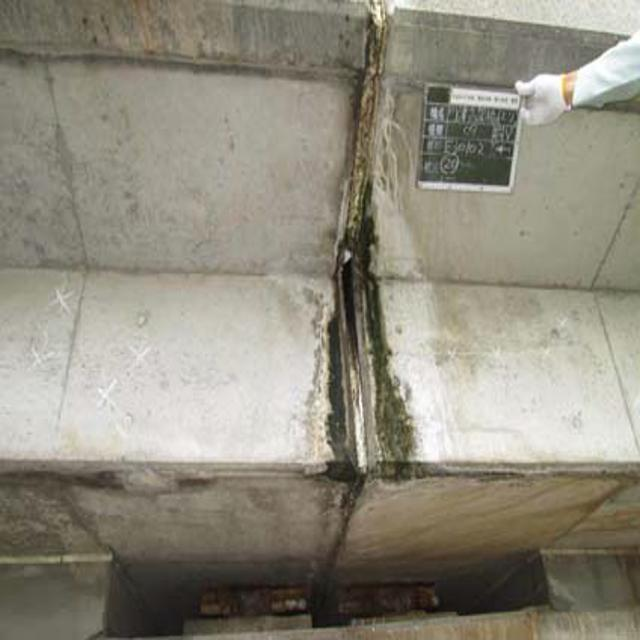freelime: (338, 7, 393, 206)
leakage: (326, 220, 420, 521)
